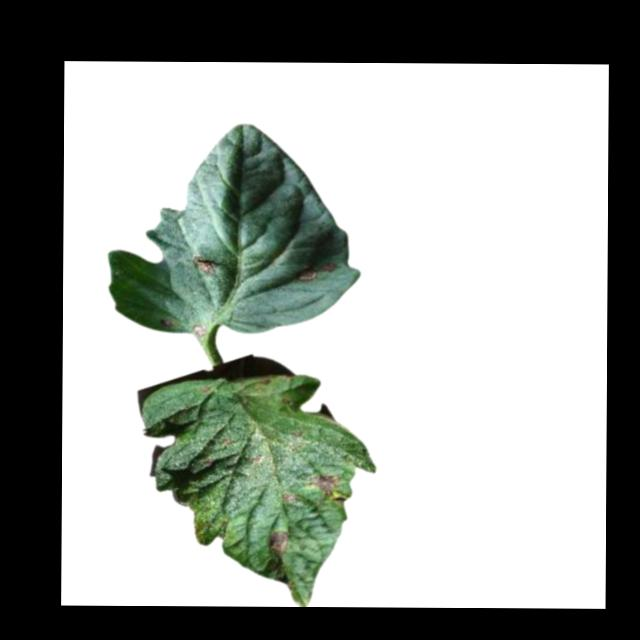Early_blight: (311, 469, 352, 506), (268, 527, 289, 560), (189, 254, 220, 270), (279, 489, 296, 508), (192, 320, 207, 338)
